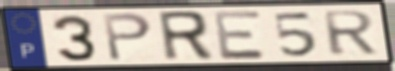3: (50, 13, 99, 63)
5: (271, 10, 319, 58)
E: (211, 9, 269, 61)
P: (100, 11, 155, 63)
R: (155, 9, 217, 63), (320, 9, 380, 58)
